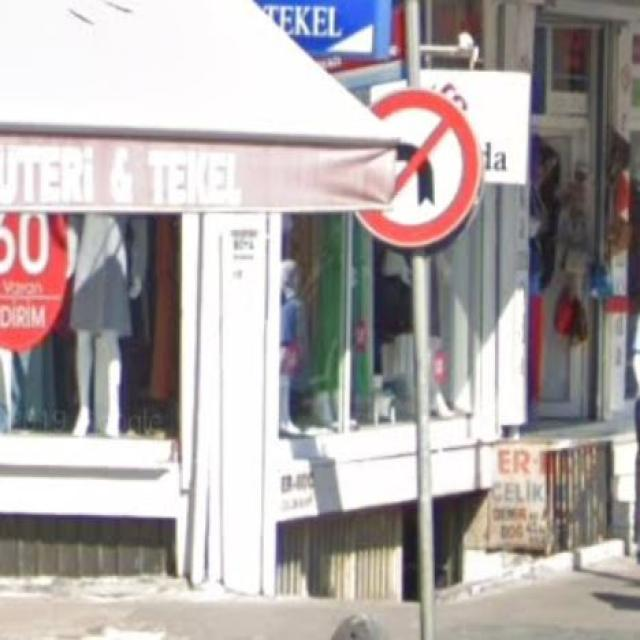soladonulmez: (347, 88, 479, 247)
